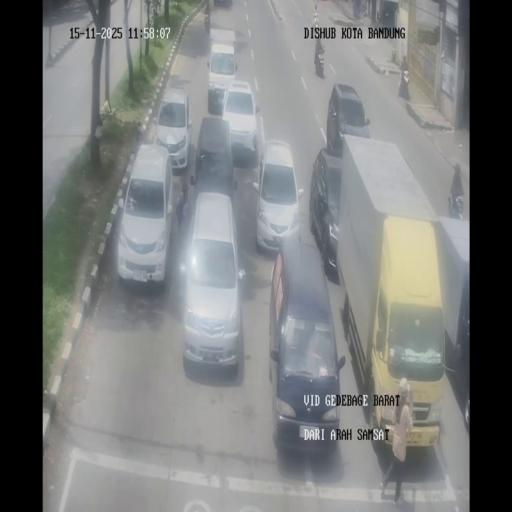car: (268, 239, 341, 451), (179, 190, 244, 370), (116, 142, 174, 286), (253, 136, 303, 254), (311, 148, 345, 279), (192, 114, 236, 194), (154, 83, 192, 172), (326, 82, 370, 154), (207, 42, 238, 114)
motorcycle: (398, 59, 410, 100), (314, 36, 324, 77), (450, 194, 464, 219), (204, 0, 210, 32)
truck: (337, 134, 461, 446)
